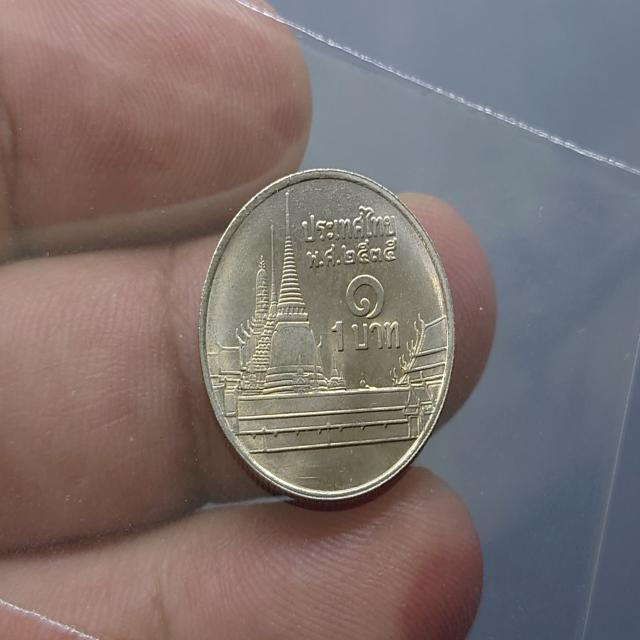1 Bath: (194, 151, 464, 519)
